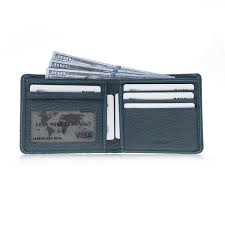monedero: (19, 51, 204, 154)
